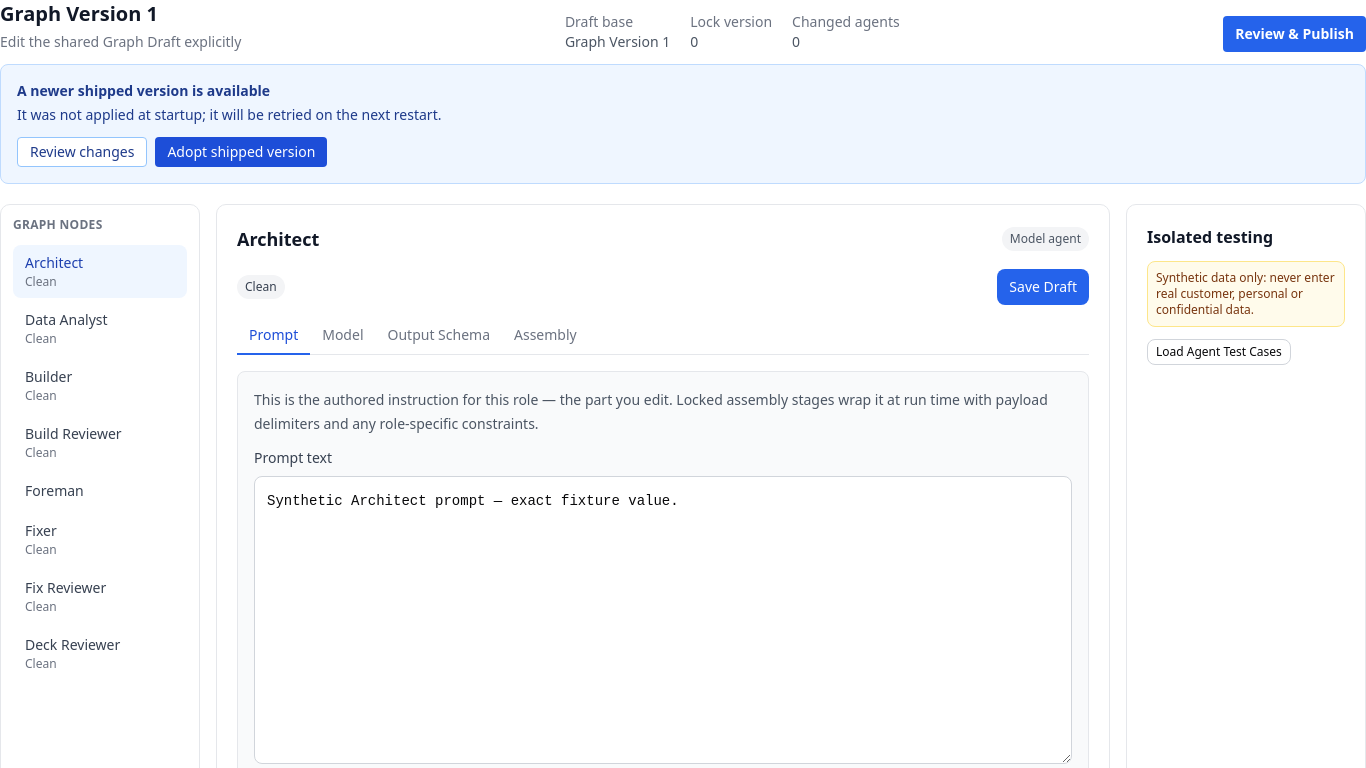
Test case: AgentDefinitionWorkbench › shipped-version badge (prompt shipping) › re-fetches the workbench and remounts the editor from the fresh snapshot after a successful adopt (C4)
expect the heading "A newer shipped version is available" is shown: met, box [17,81,270,100]
Click the button "Adopt shipped version".
click(241, 152)  # box [155,137,327,167]
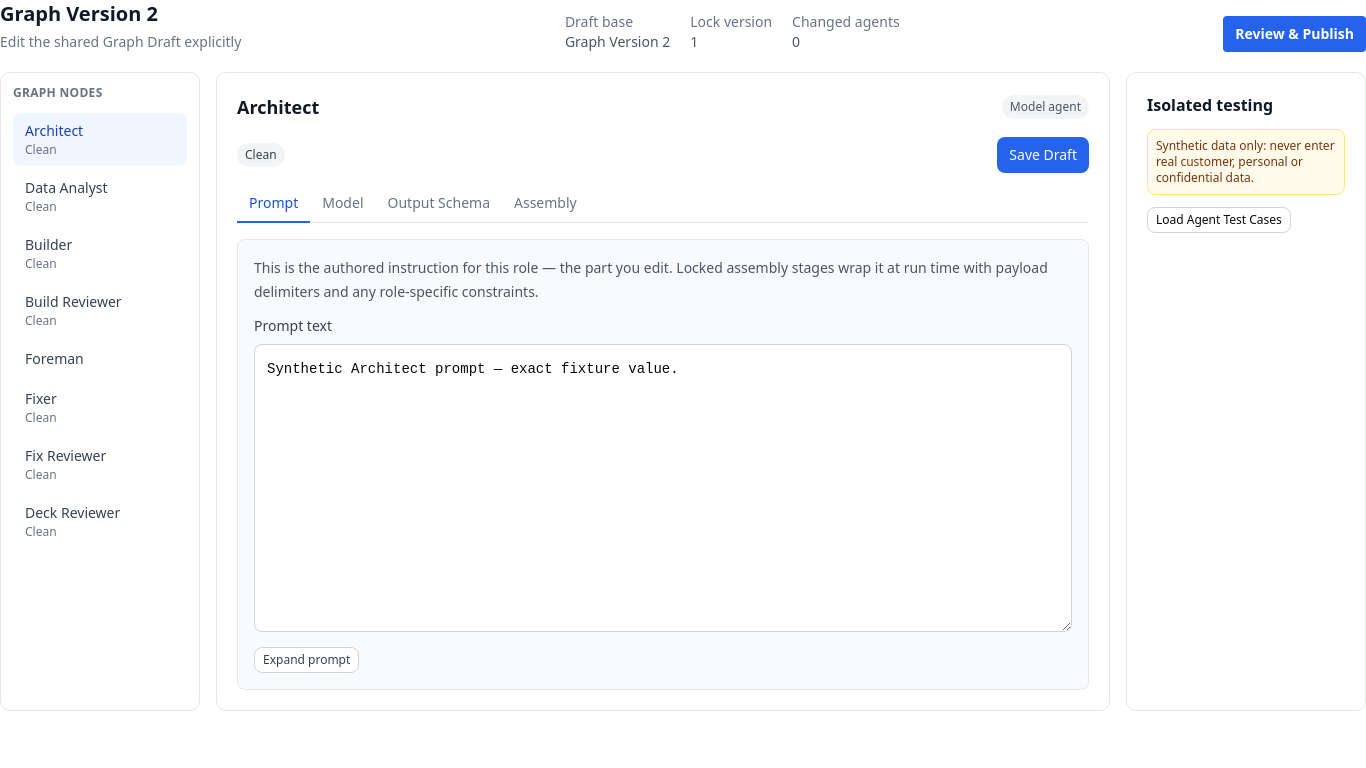
expect the heading "Graph Version 2" is shown: met, box [0,0,158,27]
expect the heading "A newer shipped version is available" is gone: met
